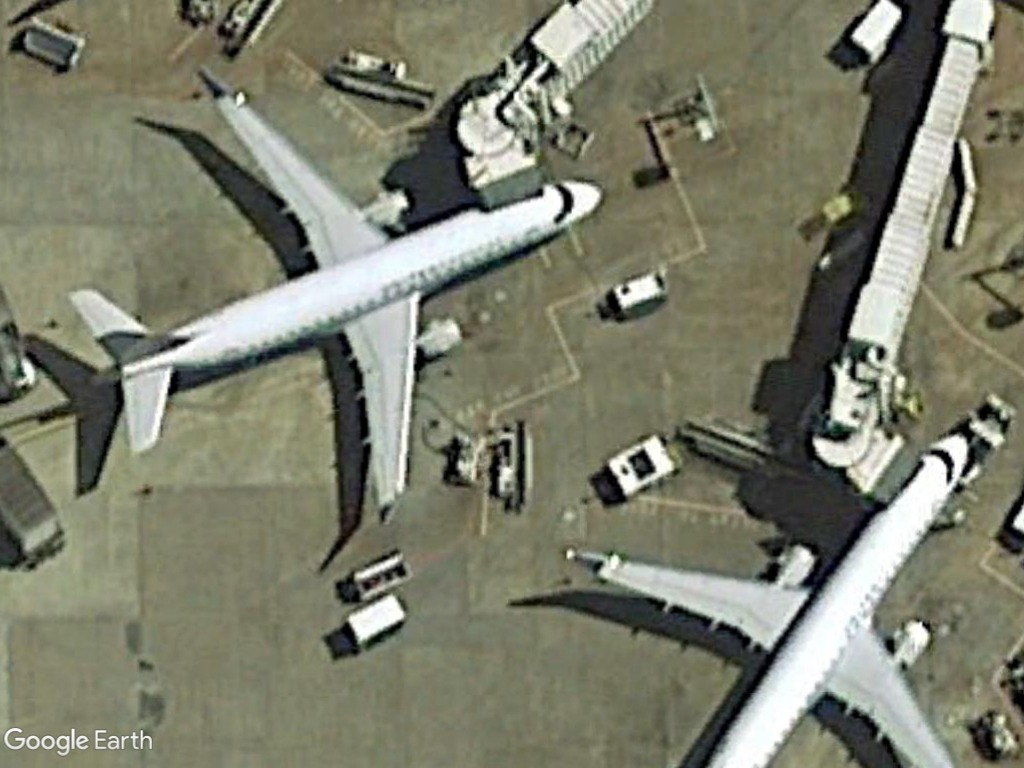airliner: (62, 66, 606, 527)
